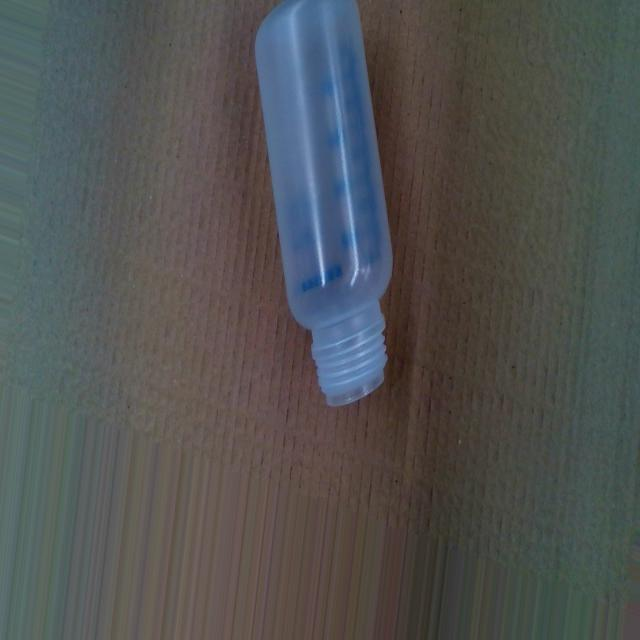bottle: (248, 0, 400, 414)
